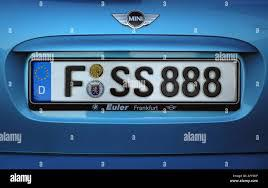8: (159, 66, 181, 99), (202, 65, 224, 97), (181, 66, 201, 98)
F: (62, 65, 87, 99)
S: (132, 65, 156, 98), (109, 66, 131, 97)
